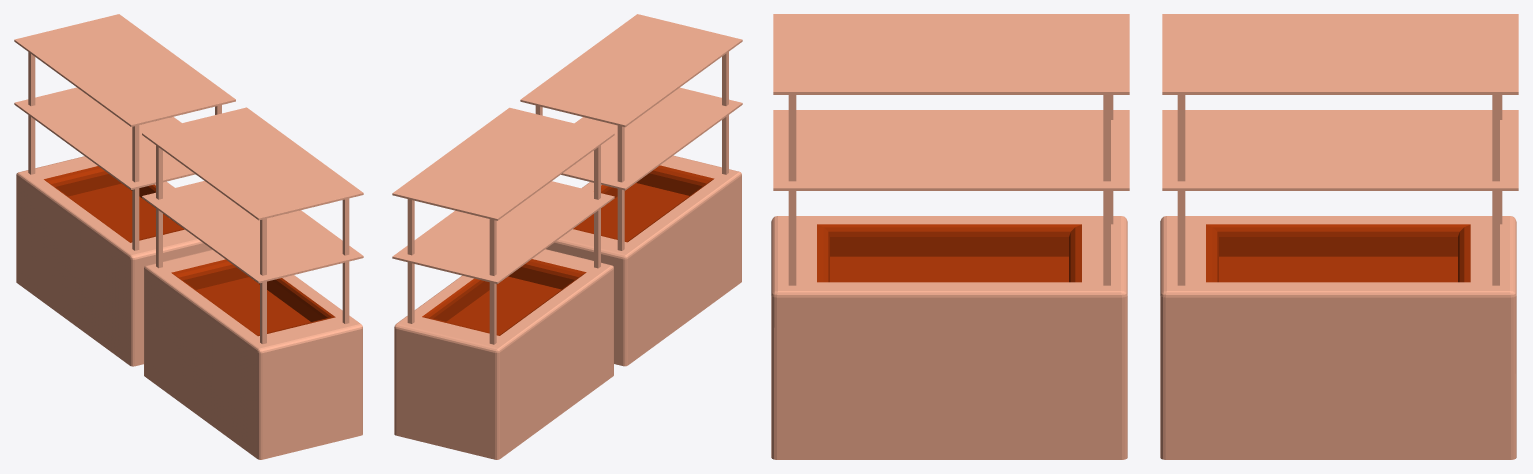
File: Rack.fbx
3 renders of one model, left to right at view 1: azimuth 30°, elevation 25°; view 2: azimuth 150°, elevation 25°; view 3: azimuth 270°, elevation 25°, orthographic. The views are drawn at different scales.
Visible parts, largest first — view 1: Rack; view 2: Rack; view 3: Rack.
Part boxes in pixels (x1,y1,x2,y2): Rack: (14, 14, 363, 459); Rack: (392, 14, 742, 459); Rack: (771, 14, 1518, 459).
Bounding box in the file's own units: 120 × 263 × 484.
